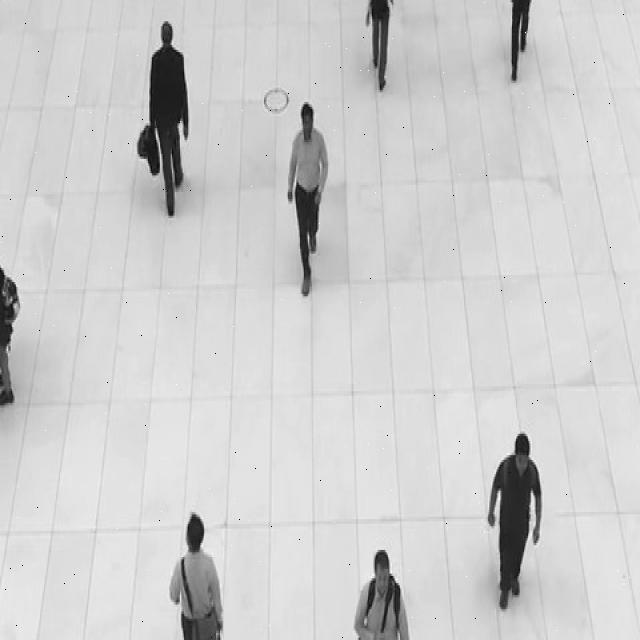human: (141, 0, 222, 265), (480, 426, 568, 640), (168, 467, 261, 640), (287, 39, 340, 299), (329, 524, 423, 640), (508, 0, 563, 154), (0, 208, 29, 410), (351, 0, 401, 107)
